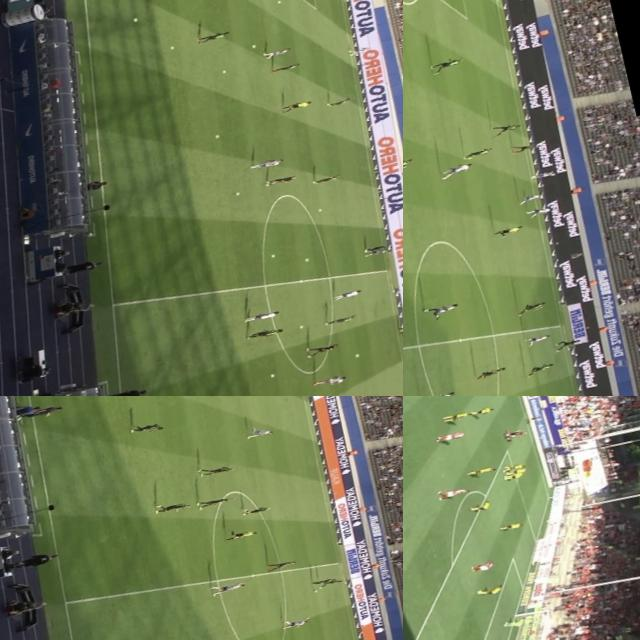ball: (548, 168, 561, 177), (266, 372, 278, 378), (230, 190, 242, 196), (129, 17, 141, 23), (163, 44, 174, 50), (310, 587, 321, 593), (301, 256, 311, 262), (210, 132, 220, 138), (249, 42, 259, 48), (351, 352, 361, 358), (219, 68, 228, 74), (294, 324, 306, 328), (268, 252, 275, 258), (504, 436, 512, 441), (316, 208, 323, 212), (274, 0, 281, 3)
player: (421, 300, 459, 322), (152, 496, 192, 516), (209, 578, 250, 597), (438, 158, 476, 178), (520, 358, 558, 376), (472, 362, 509, 380), (199, 461, 236, 479), (308, 372, 349, 388), (300, 340, 336, 358), (516, 297, 552, 314), (488, 120, 526, 136), (435, 484, 470, 501), (245, 325, 282, 340), (195, 494, 232, 509), (428, 59, 464, 74), (130, 420, 163, 436), (520, 331, 552, 347), (466, 463, 500, 478), (503, 613, 531, 631), (437, 428, 468, 444), (441, 409, 472, 425), (260, 172, 295, 186), (268, 556, 298, 572), (474, 582, 504, 598), (322, 312, 356, 326), (240, 501, 268, 518), (269, 61, 300, 76), (332, 287, 366, 300), (308, 172, 342, 185), (249, 157, 282, 170), (552, 336, 582, 350), (198, 31, 230, 44), (244, 310, 278, 322), (413, 387, 457, 396), (246, 426, 274, 440), (468, 499, 492, 515), (282, 615, 308, 629), (472, 561, 496, 576), (463, 146, 492, 158), (516, 193, 542, 206), (468, 405, 494, 418), (264, 46, 291, 58), (508, 143, 535, 155), (318, 576, 345, 588), (495, 520, 522, 532), (362, 243, 386, 256), (526, 205, 552, 217), (529, 170, 555, 181), (310, 575, 336, 586), (347, 44, 370, 56), (324, 98, 350, 108), (363, 248, 389, 257), (403, 157, 416, 174), (503, 428, 519, 439), (506, 467, 526, 475), (506, 462, 524, 470), (504, 472, 522, 480)
